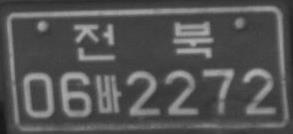0: (22, 71, 55, 118)
2: (242, 67, 278, 116), (125, 69, 162, 116), (164, 68, 199, 116)
6: (59, 70, 93, 118)
7: (201, 67, 235, 115)
바: (94, 74, 122, 114)
전북_D: (74, 20, 215, 61)
